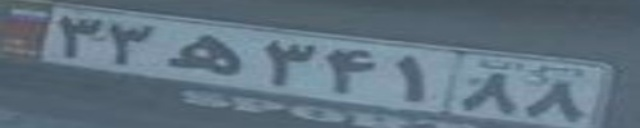1: (395, 54, 425, 102)
3: (263, 39, 314, 86), (106, 22, 156, 66), (60, 16, 99, 58)
4: (323, 48, 377, 93)
8: (524, 82, 584, 121), (465, 70, 517, 113)
he: (164, 31, 242, 76)
